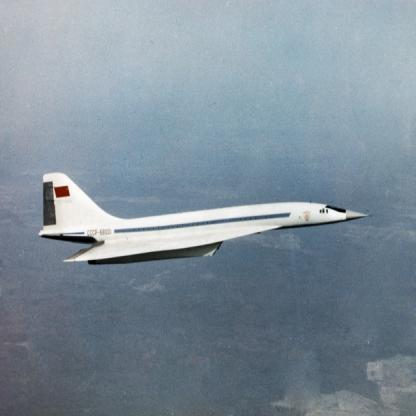CIV_Plane: (34, 167, 377, 275)
